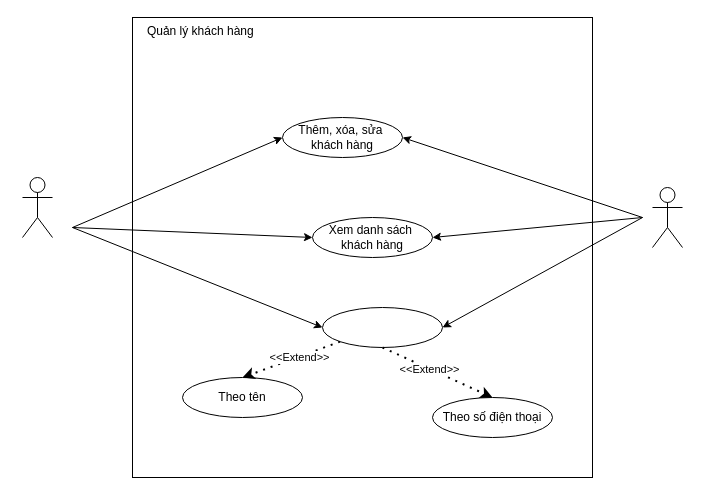
Some shapes in this 712 by 495 pixel diagram are drawn without their labels. The box of each missing label's shape, as (x1, y1, x2, y2) in pixels:
Nhân viên: (652, 186, 682, 248)
Quản lý: (22, 176, 52, 238)
Tra cứu khách hàng: (322, 306, 442, 348)
